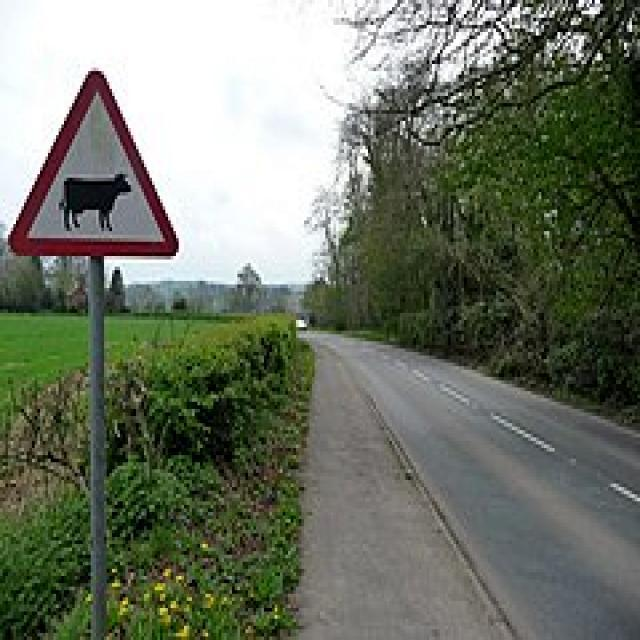Traffic sign: (4, 60, 192, 270)
